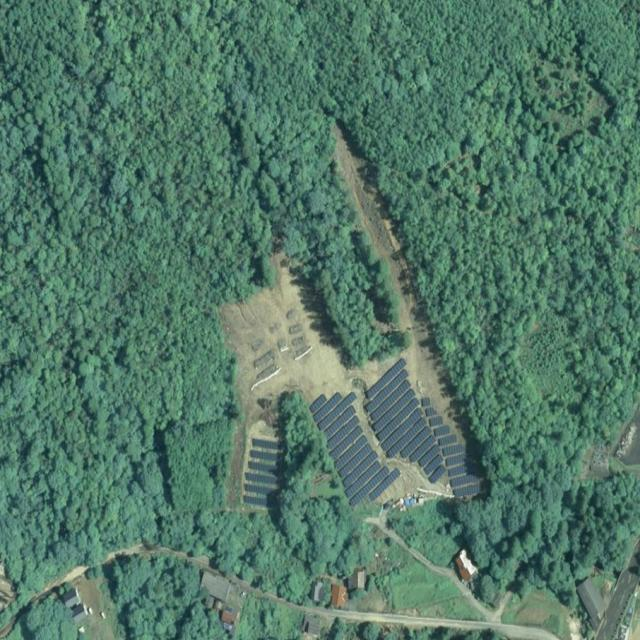landslide: (334, 124, 408, 283)
